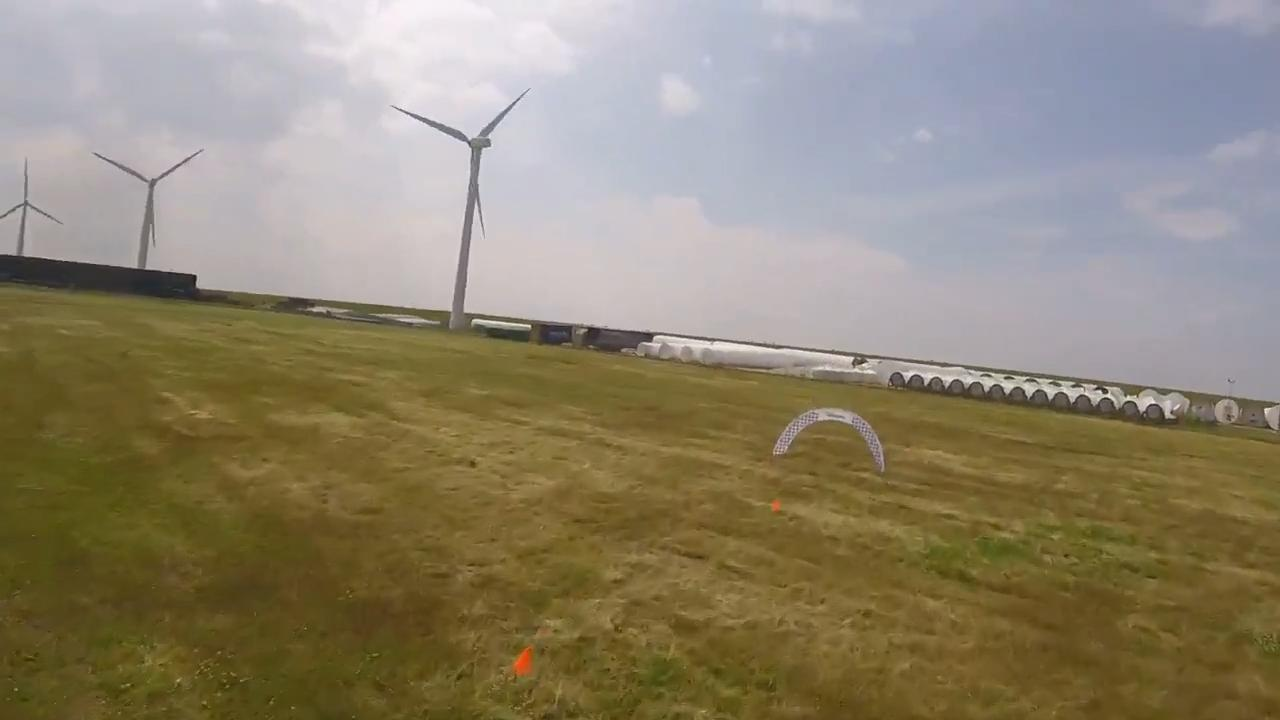gate: (773, 406, 884, 473)
